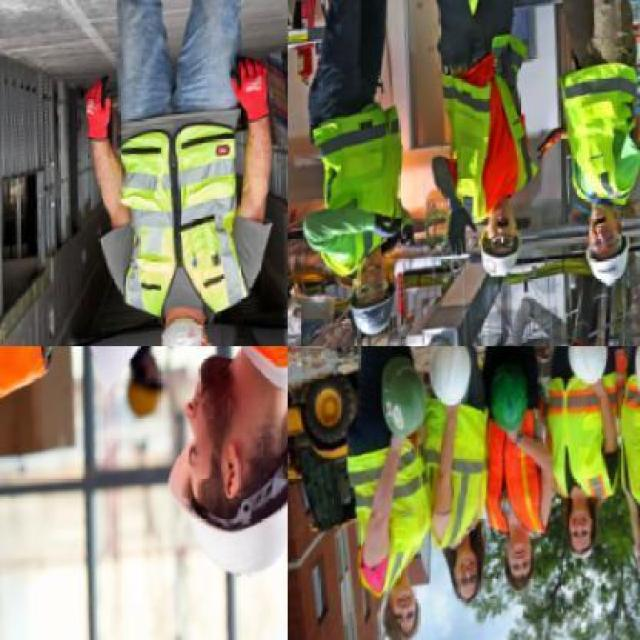helmet: (156, 462, 292, 578), (347, 286, 397, 340), (583, 240, 632, 288), (474, 246, 530, 280)
jacket: (107, 114, 255, 314), (304, 111, 408, 278), (444, 63, 544, 227), (348, 433, 432, 590), (560, 64, 640, 214), (547, 370, 622, 502), (432, 402, 490, 556)
